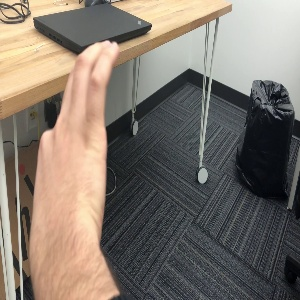hand: (29, 41, 120, 249)
